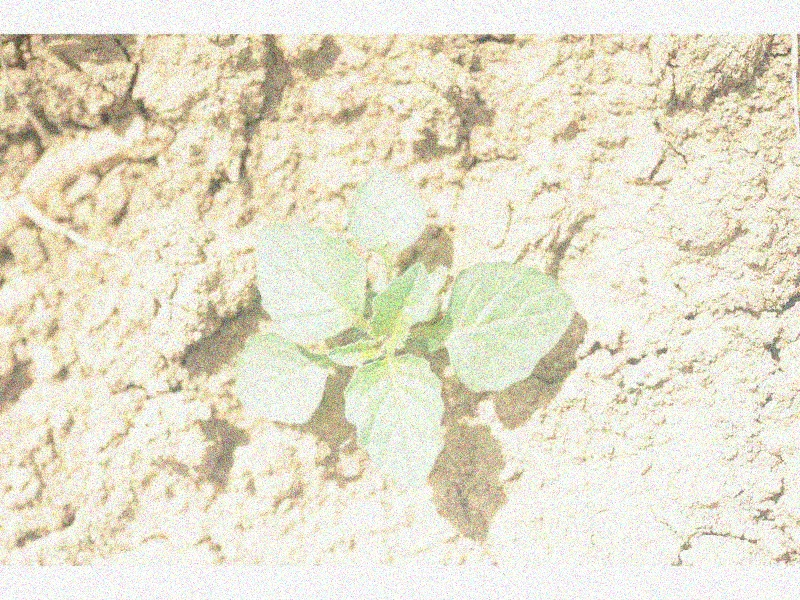nightshade: (231, 168, 575, 489)
